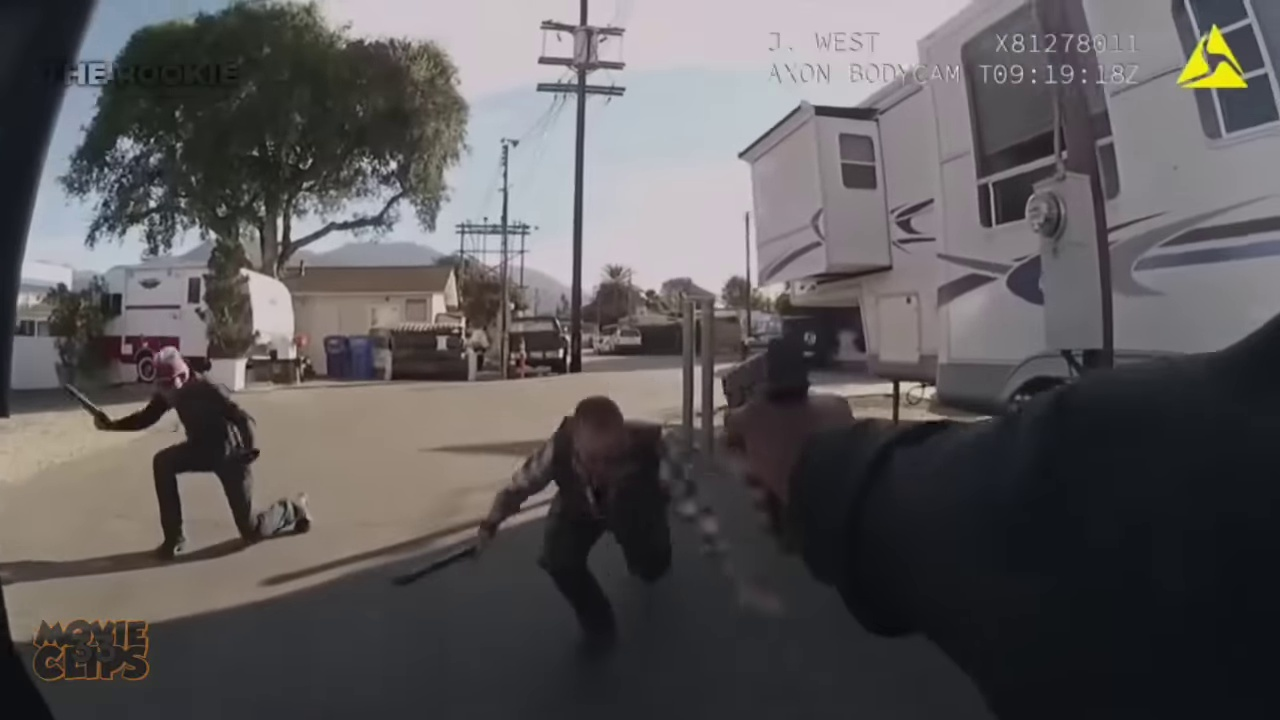gun: (717, 333, 822, 445), (63, 383, 113, 430)
p_w_gun: (719, 326, 1280, 720), (65, 344, 314, 563)
p_wo_gun_not_carrying_normal_pose: (391, 386, 691, 669)
